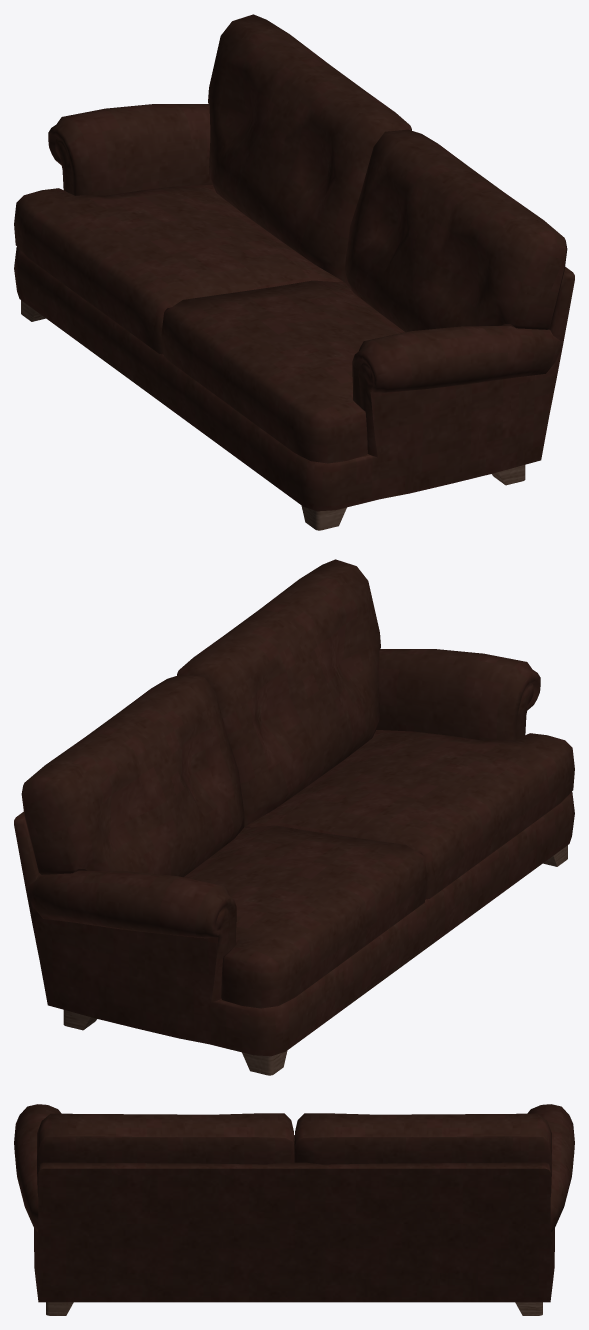
File: sf_sofa.glb
The picture shows the model from 3 angles, top to bottom: view 1: azimuth 30°, elevation 25°; view 2: azimuth 150°, elevation 25°; view 3: azimuth 270°, elevation 25°; orthographic projection. The views are drawn at different scales.
Visible parts, largest first — view 1: Object_2; view 2: Object_2; view 3: Object_2.
Part boxes in pixels (x1,y1,x2,y2): Object_2: (14,14,574,530); Object_2: (14,559,574,1075); Object_2: (14,1104,574,1315).
Bounding box in the file's own units: 2 × 1.76 × 4.41.
Materials: 1 (1 with a texture image).
